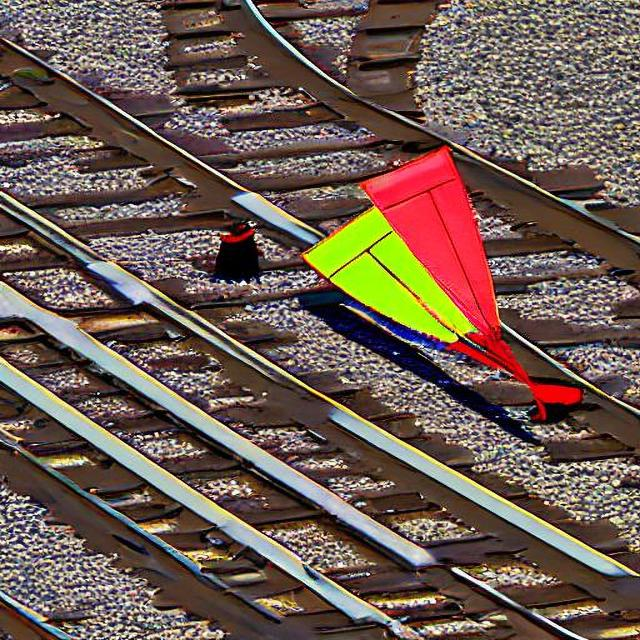floating object: (278, 134, 609, 426)
